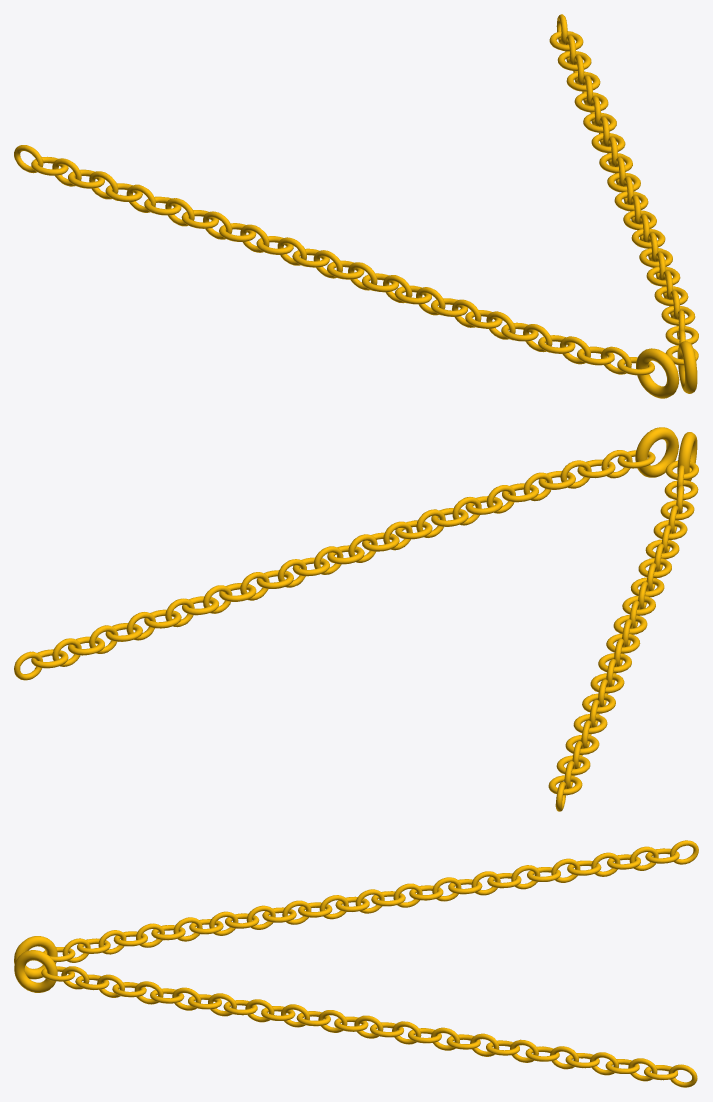
File: BRACELET13.glb
The picture shows the model from 3 angles, top to bottom: view 1: azimuth 30°, elevation 25°; view 2: azimuth 150°, elevation 25°; view 3: azimuth 270°, elevation 25°; orthographic projection. The views are drawn at different scales.
Visible parts, largest first — view 1: chain_left_object_4, chain_right_object_5; view 2: chain_right_object_5, chain_left_object_4; view 3: chain_right_object_5, chain_left_object_4.
Boxes of the visible parts, left/top/right/bottom form: chain_left_object_4: left=14, top=145, right=679, bottom=398; chain_right_object_5: left=549, top=14, right=698, bottom=393; chain_right_object_5: left=14, top=427, right=678, bottom=680; chain_left_object_4: left=548, top=432, right=698, bottom=811; chain_right_object_5: left=14, top=950, right=697, bottom=1087; chain_left_object_4: left=14, top=840, right=698, bottom=979.
Size of the model in its own units: 21.38 by 1.85 by 26.95.
